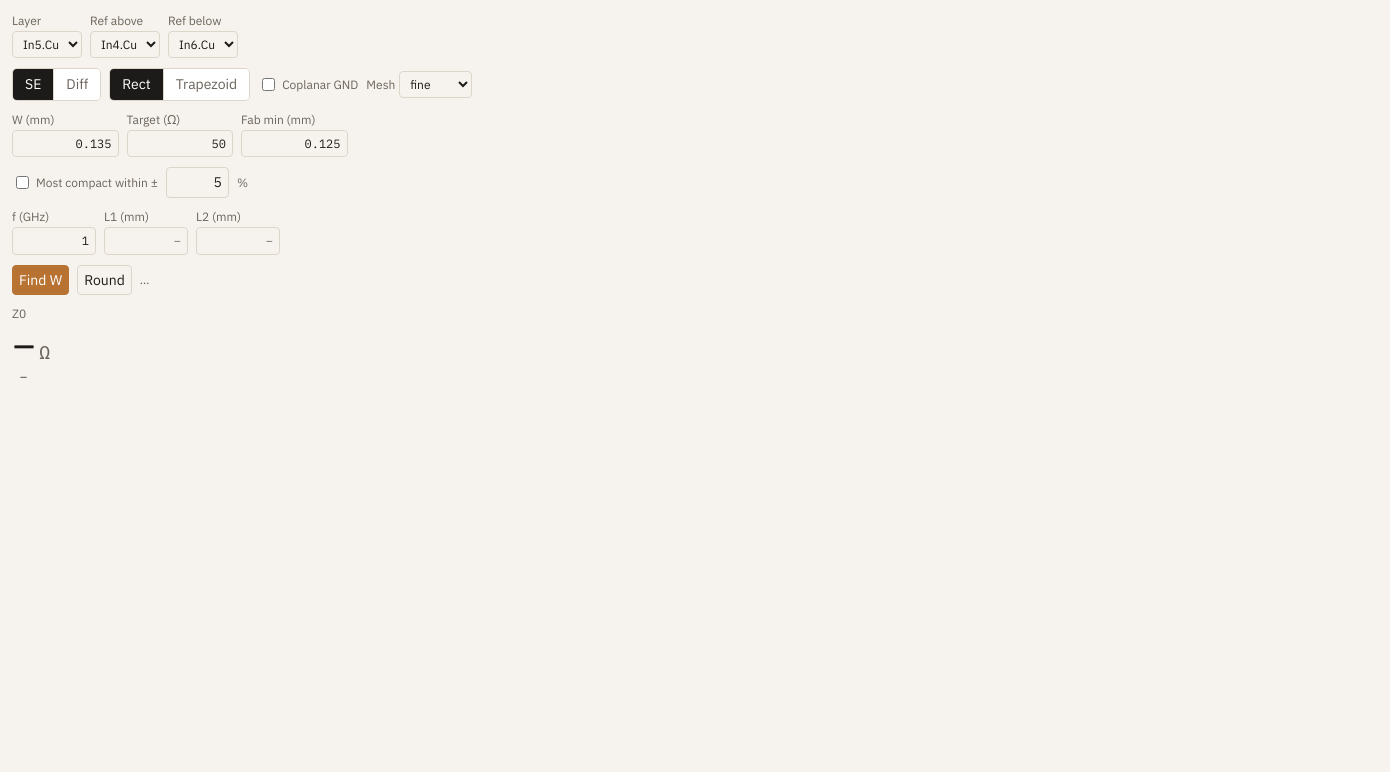
it: Calculator › a debounce still pending when Find W is clicked does not cancel the search
The width and height of the screenshot is (1390, 772).
Replace the text in the field named "Width W" with "0.14" at [65, 144], box [12,130,118,158]
Wait 50 ms
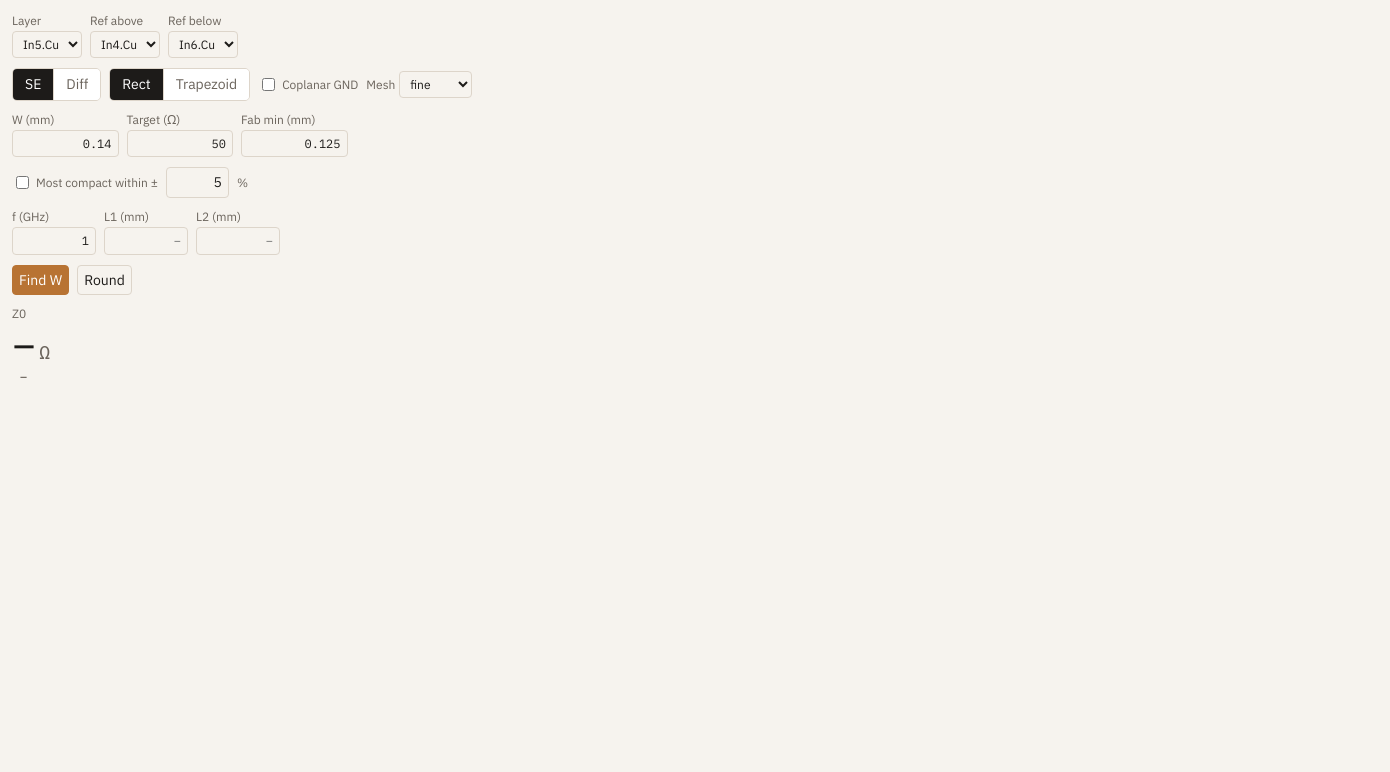
Click the button "Find W" at [41, 280], box [12,264,69,295]
Wait 181 ms
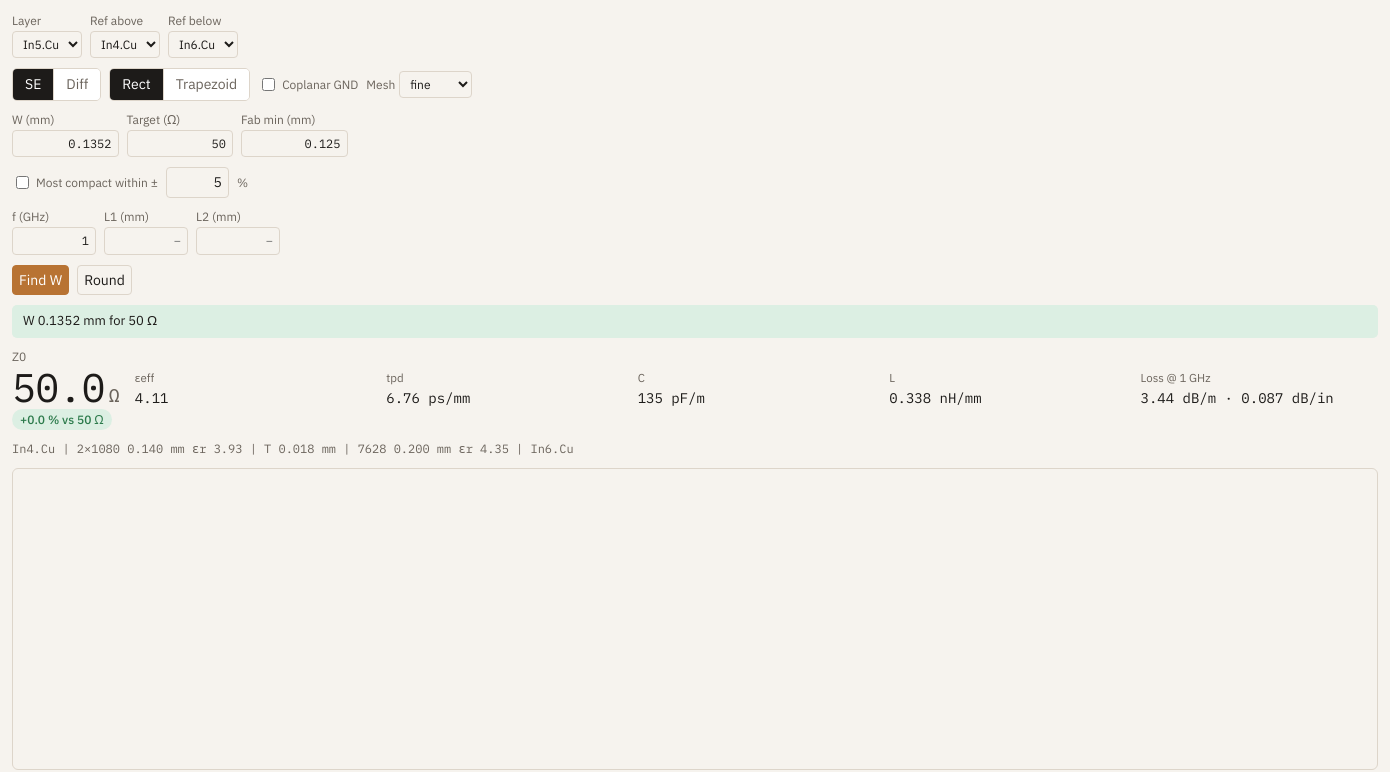
Result: the field named "Width W" holds "0.1352" at [12,130,118,158]
